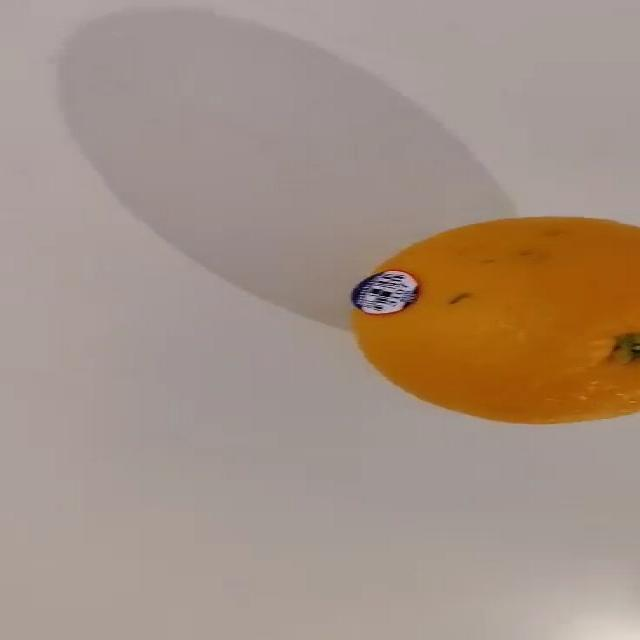Orange: (349, 214, 639, 425)
